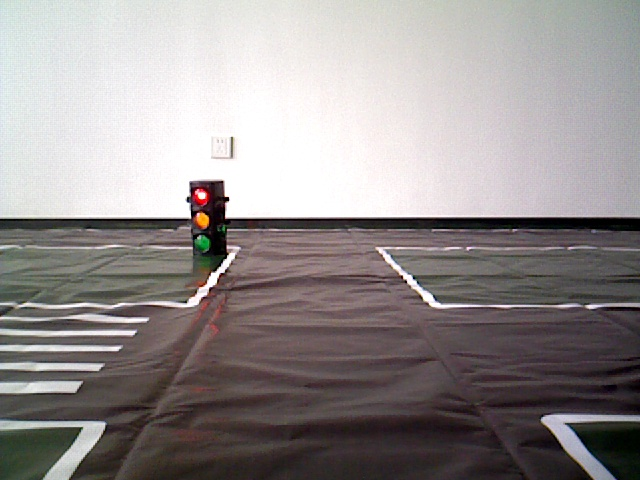red: (191, 183, 223, 258)
